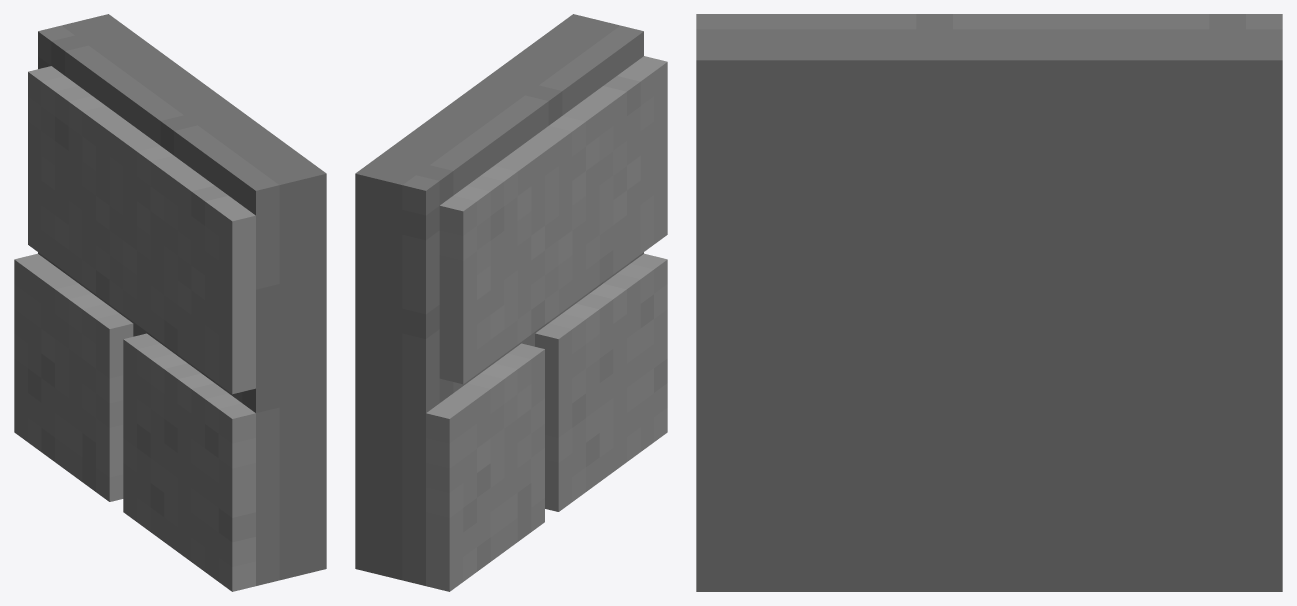
File: SimpleWall.obj
The picture shows the model from 3 angles, left to right: view 1: azimuth 30°, elevation 25°; view 2: azimuth 150°, elevation 25°; view 3: azimuth 270°, elevation 25°; orthographic projection. The views are drawn at different scales.
Bounding box in the file's own units: 0.4 × 1.6 × 1.6.
Materials: 1 (1 with a texture image).
